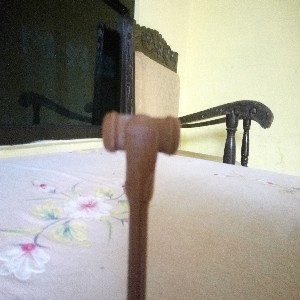palu: (101, 111, 181, 300)
